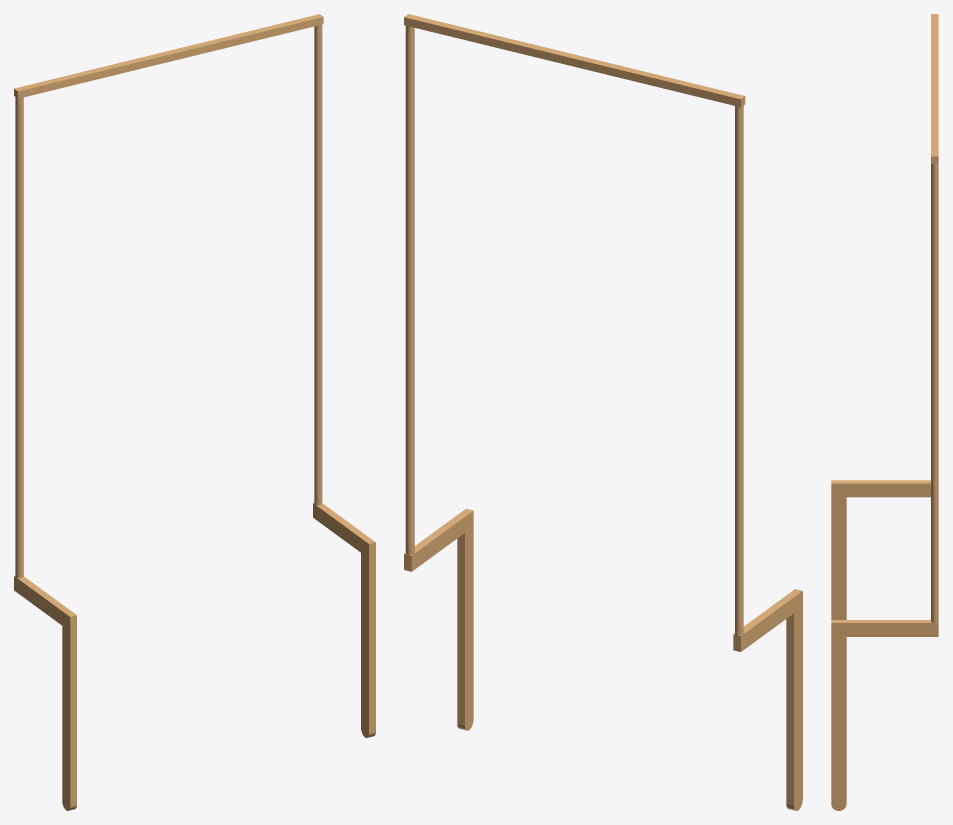
3 renders of one model, left to right at view 1: azimuth 30°, elevation 25°; view 2: azimuth 150°, elevation 25°; view 3: azimuth 270°, elevation 25°, orthographic. The views are drawn at different scales.
Parts seen in each view (by area): view 1: Generic Structure Piece (×5), Arm Segment (×2); view 2: Generic Structure Piece (×5), Arm Segment (×2); view 3: Generic Structure Piece (×4), Arm Segment (×2).
Boxes of the visible parts, x1,y1,x2,y2 form: Generic Structure Piece (×5): [14, 14, 367, 625]; Arm Segment (×2): [62, 536, 375, 810]; Generic Structure Piece (×5): [404, 14, 793, 651]; Arm Segment (×2): [457, 508, 802, 810]; Generic Structure Piece (×4): [846, 14, 938, 636]; Arm Segment (×2): [831, 480, 846, 810].
Bounding box in the file's own units: 0.5588 × 1.19 × 0.1778.
